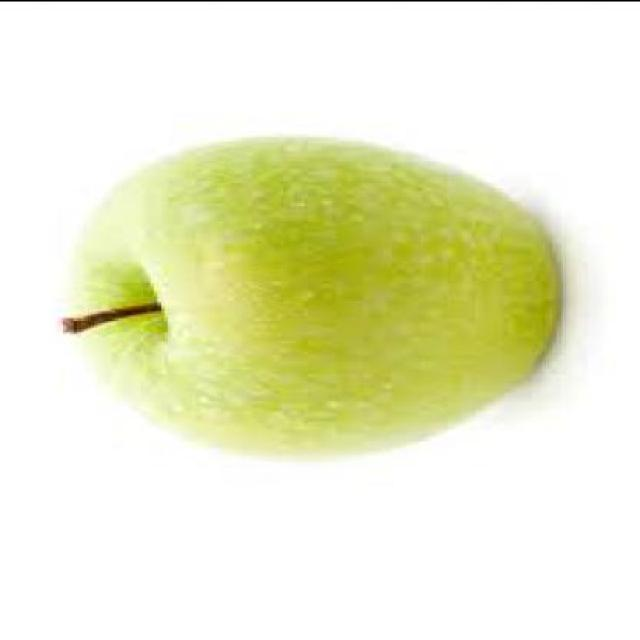BIODEGRADABLE: (75, 138, 560, 453), (62, 302, 161, 332)
